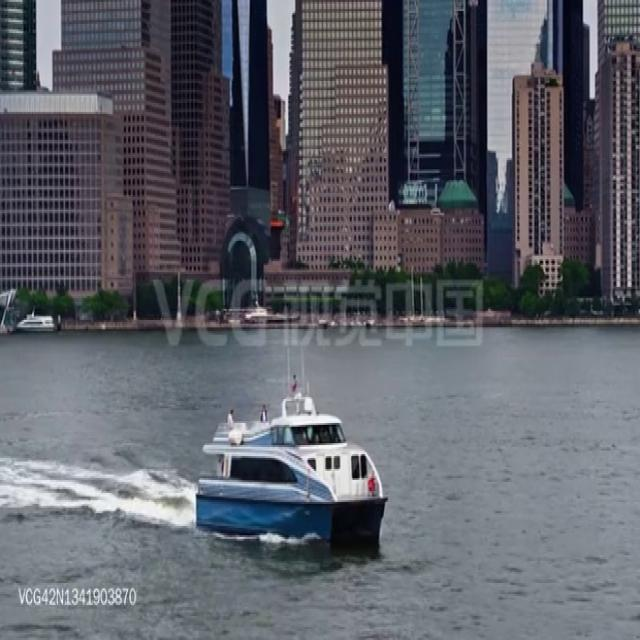houseboat: (195, 379, 387, 543), (16, 310, 54, 334)
